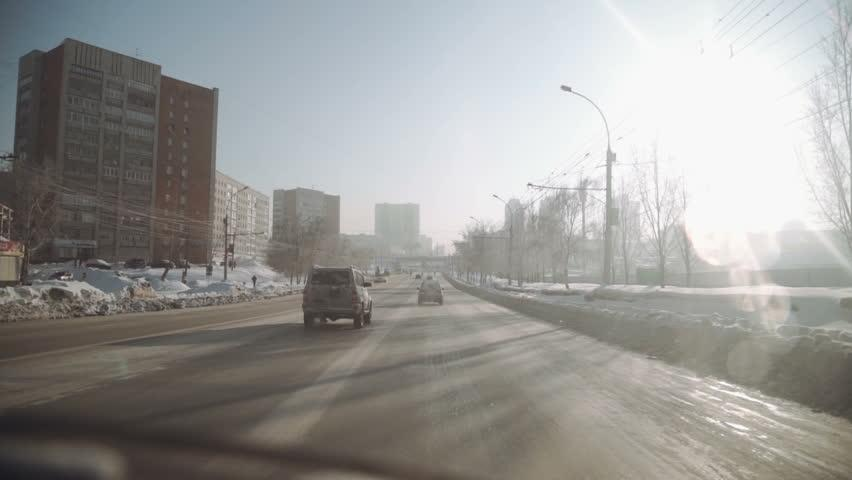backpack: (417, 278, 444, 305)
bus: (299, 264, 374, 328), (0, 234, 30, 285), (45, 239, 97, 261), (413, 271, 443, 304), (123, 257, 147, 270)
car: (300, 264, 373, 328), (0, 234, 30, 285), (350, 266, 373, 328), (38, 239, 94, 262), (81, 262, 134, 285), (85, 268, 127, 292), (155, 268, 189, 292), (95, 270, 138, 288), (356, 265, 388, 289), (79, 257, 117, 276), (417, 278, 443, 305), (4, 285, 40, 304), (357, 277, 373, 317), (412, 273, 437, 298), (86, 265, 116, 284), (154, 279, 191, 294), (351, 266, 376, 288), (195, 278, 233, 292), (356, 269, 373, 299), (117, 258, 148, 274), (362, 284, 374, 324), (37, 270, 73, 283), (114, 270, 147, 284), (419, 271, 441, 291), (205, 281, 235, 295), (118, 266, 150, 279), (368, 266, 394, 282), (364, 271, 389, 286), (162, 268, 188, 282), (45, 287, 73, 300), (74, 257, 103, 269), (84, 257, 112, 269), (60, 267, 85, 280), (184, 281, 209, 294), (403, 271, 423, 287), (123, 257, 147, 270), (261, 283, 285, 296), (364, 263, 388, 276), (181, 288, 209, 299), (412, 272, 431, 288), (188, 277, 213, 289), (271, 283, 296, 295), (409, 273, 425, 290), (159, 256, 178, 270), (51, 269, 74, 280)
horse: (417, 277, 443, 305)
kite: (417, 277, 443, 305)
motorcycle: (417, 277, 443, 305)
person: (302, 264, 368, 328), (417, 276, 443, 305), (419, 271, 441, 291), (414, 273, 430, 296), (409, 275, 423, 301), (429, 270, 444, 293), (160, 257, 174, 279)
truck: (302, 264, 373, 328), (0, 234, 30, 285), (350, 266, 373, 328), (45, 239, 97, 261), (85, 268, 127, 292), (350, 265, 382, 296), (417, 278, 443, 305), (350, 266, 372, 288), (364, 271, 389, 286), (85, 257, 112, 269), (123, 257, 147, 270), (47, 269, 73, 280)
umbrella: (84, 257, 112, 269)
